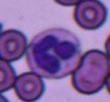N: (27, 28, 82, 80)
